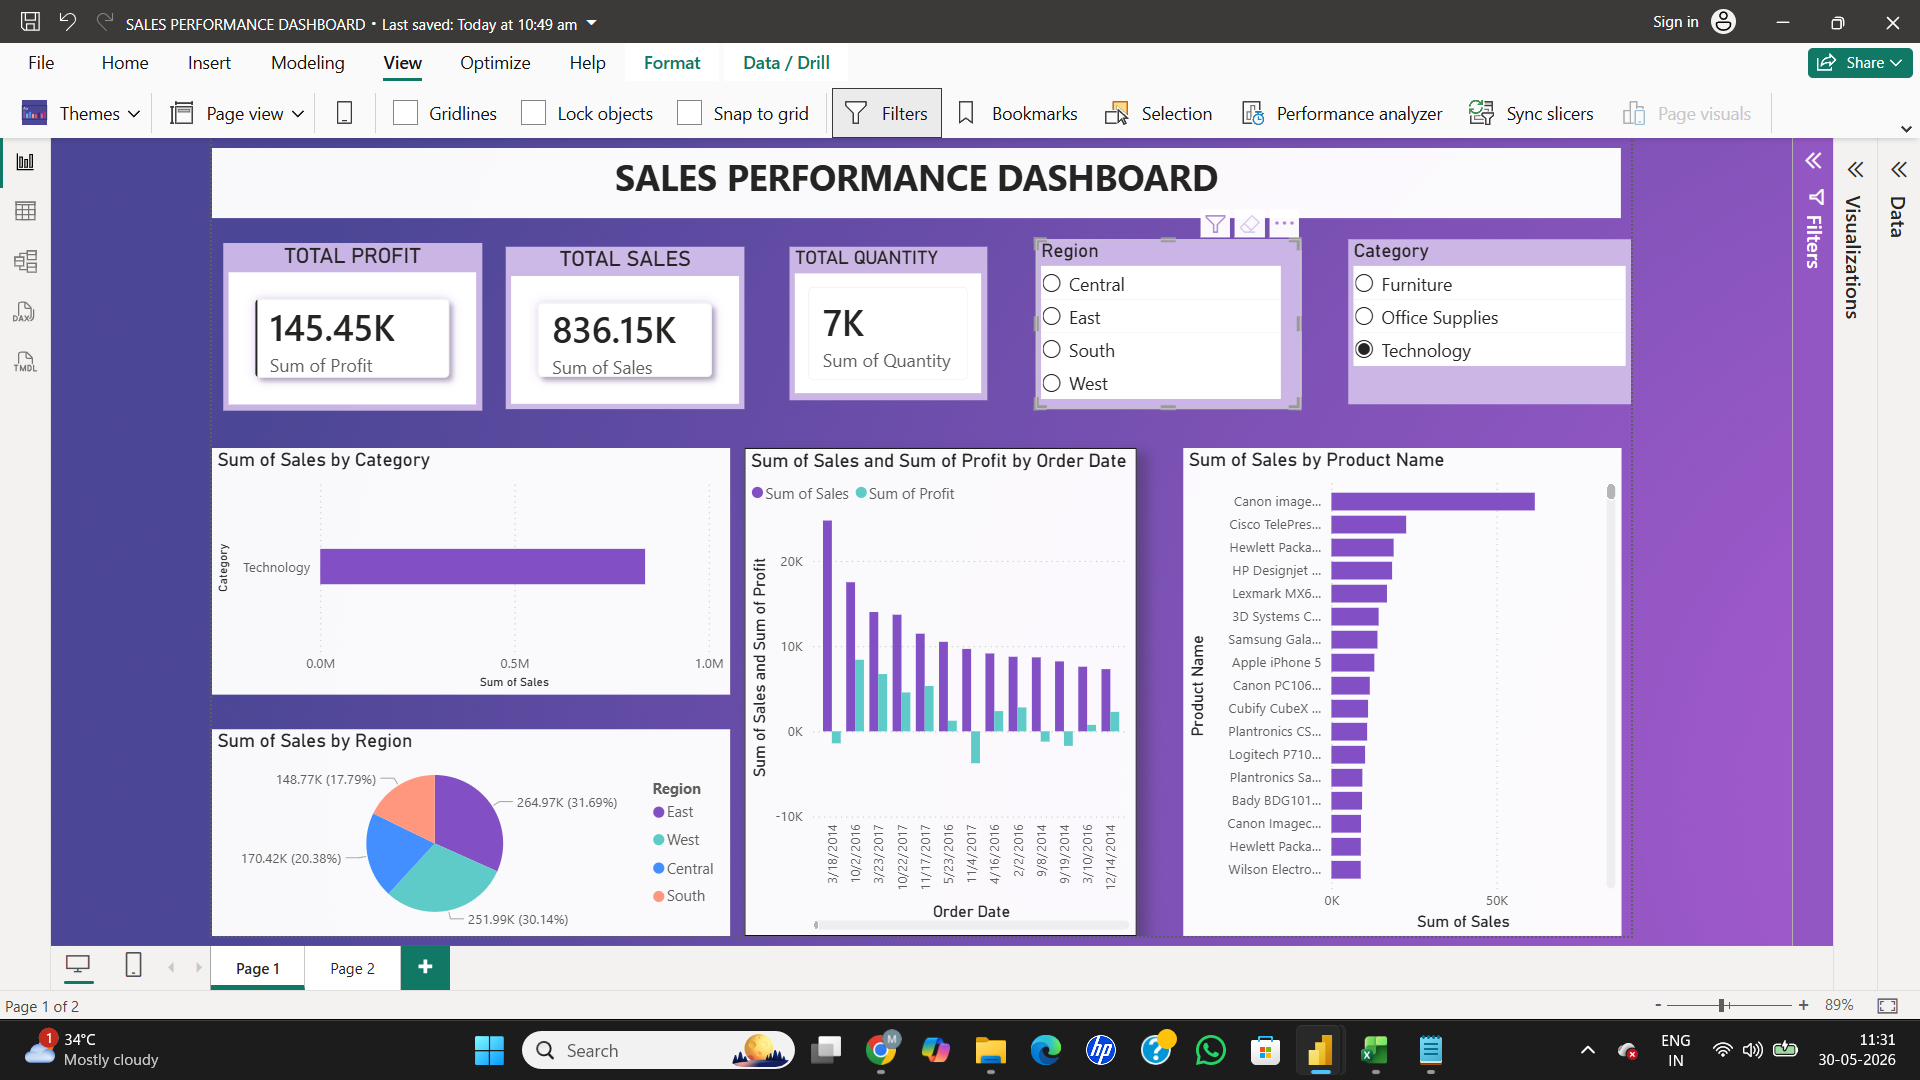

The dashboard page shown, as its layout file describes it:
{"tool":"powerbi","page":{"name":"Page 1","canvas":[1280,720],"ordinal":0},"visuals":[{"type":"clusteredColumnChart","fields":{"Y":["Sum(Sample - Superstore.Sales)","Sum(Sample - Superstore.Profit)"],"Category":["Sample - Superstore.Order Date"]},"box":[498.9,280,353.4,440.2],"z":0},{"type":"cardVisual","title":"TOTAL SALES","fields":{"Data":["Sum(Sample - Superstore.Sales)","Sum(Sample - Superstore.Sales)"]},"box":[264.8,97.4,215.4,144.1],"z":1000},{"type":"cardVisual","title":"TOTAL PROFIT","fields":{"Data":["Sum(Sample - Superstore.Profit)"]},"box":[9.6,94.7,233.3,150.9],"z":2000},{"type":"cardVisual","title":"TOTAL QUANTITY","fields":{"Data":["Sum(Sample - Superstore.Quantity)"]},"box":[511.1,94.2,178.5,138.2],"z":3000},{"type":"clusteredBarChart","fields":{"Category":["Sample - Superstore.Category"],"Y":["Sum(Sample - Superstore.Sales)"]},"box":[0,280,467.1,222.6],"z":4000},{"type":"pieChart","fields":{"Category":["Sample - Superstore.Region"],"Y":["Sum(Sample - Superstore.Sales)"]},"box":[0,533.2,467.1,187.1],"z":5000},{"type":"listSlicer","fields":{"Values":["Sample - Superstore.Region"]},"box":[742.3,91.7,189.5,144.3],"z":6000},{"type":"clusteredBarChart","fields":{"Category":["Sample - Superstore.Product Name"],"Y":["Sum(Sample - Superstore.Sales)"]},"box":[875.5,280,395,440.2],"z":7000},{"type":"listSlicer","fields":{"Values":["Sample - Superstore.Category"]},"box":[1015,91.7,200.5,149.2],"z":8000},{"type":"textbox","box":[0,8.6,1270.5,63.6],"z":9000}]}

Visuals, with their boxes on the page's 1280x720 design canvas (x1, y1, x2, y2). These are canvas units, not pixel positions in the 1920x1080 screenshot, which may show the page scaled, cropped or inside an application window:
clusteredColumnChart - Sum(Sample - Superstore.Sales) x Sum(Sample - Superstore.Profit): region(499, 280, 852, 720)
"TOTAL SALES" cardVisual: region(265, 97, 480, 242)
"TOTAL PROFIT" cardVisual: region(10, 95, 243, 246)
"TOTAL QUANTITY" cardVisual: region(511, 94, 690, 232)
clusteredBarChart - Sample - Superstore.Category x Sum(Sample - Superstore.Sales): region(0, 280, 467, 503)
pieChart - Sample - Superstore.Region x Sum(Sample - Superstore.Sales): region(0, 533, 467, 720)
listSlicer - Sample - Superstore.Region: region(742, 92, 932, 236)
clusteredBarChart - Sample - Superstore.Product Name x Sum(Sample - Superstore.Sales): region(876, 280, 1270, 720)
listSlicer - Sample - Superstore.Category: region(1015, 92, 1216, 241)
textbox: region(0, 9, 1270, 72)
